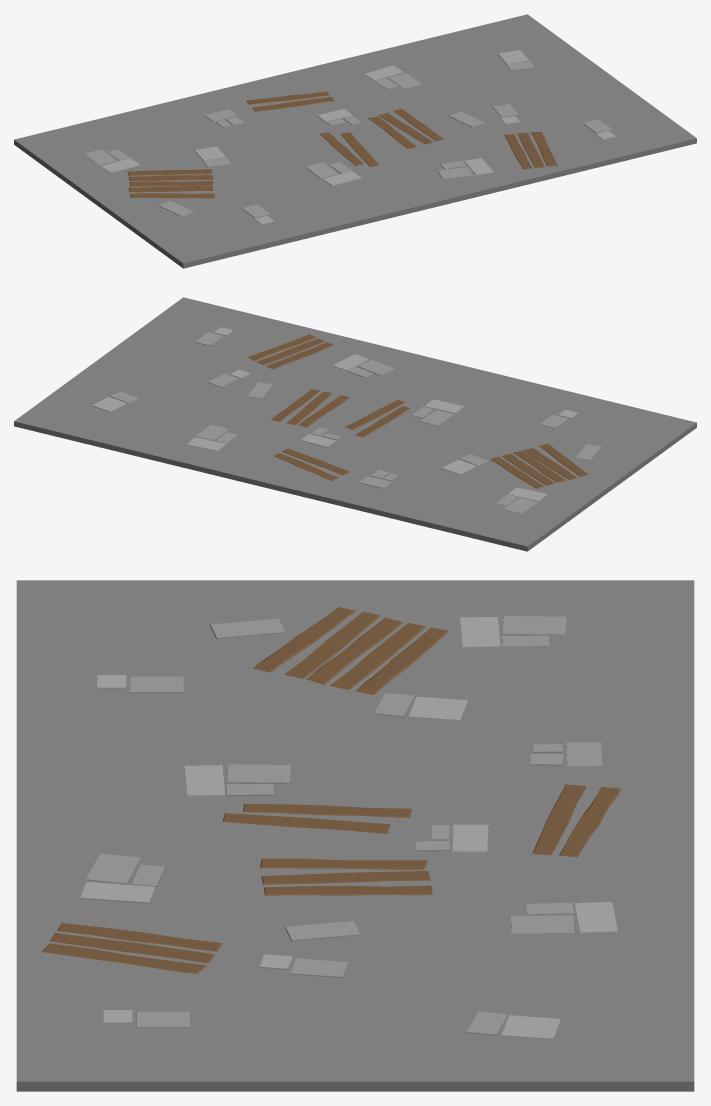
Rendered from Map4_floor.fbx.
3 views of the same model, one above another, from view 1: azimuth 30°, elevation 25°; view 2: azimuth 150°, elevation 25°; view 3: azimuth 270°, elevation 25° (orthographic). The views are drawn at different scales.
Parts seen in each view (by area): view 1: Map 2 floor; view 2: Map 2 floor; view 3: Map 2 floor.
Boxes of the visible parts, left/top/right/bottom form: Map 2 floor: left=14, top=14, right=696, bottom=268; Map 2 floor: left=14, top=297, right=696, bottom=551; Map 2 floor: left=16, top=580, right=694, bottom=1091.
Bounding box in the file's own units: 5600 × 58.92 × 3200.
